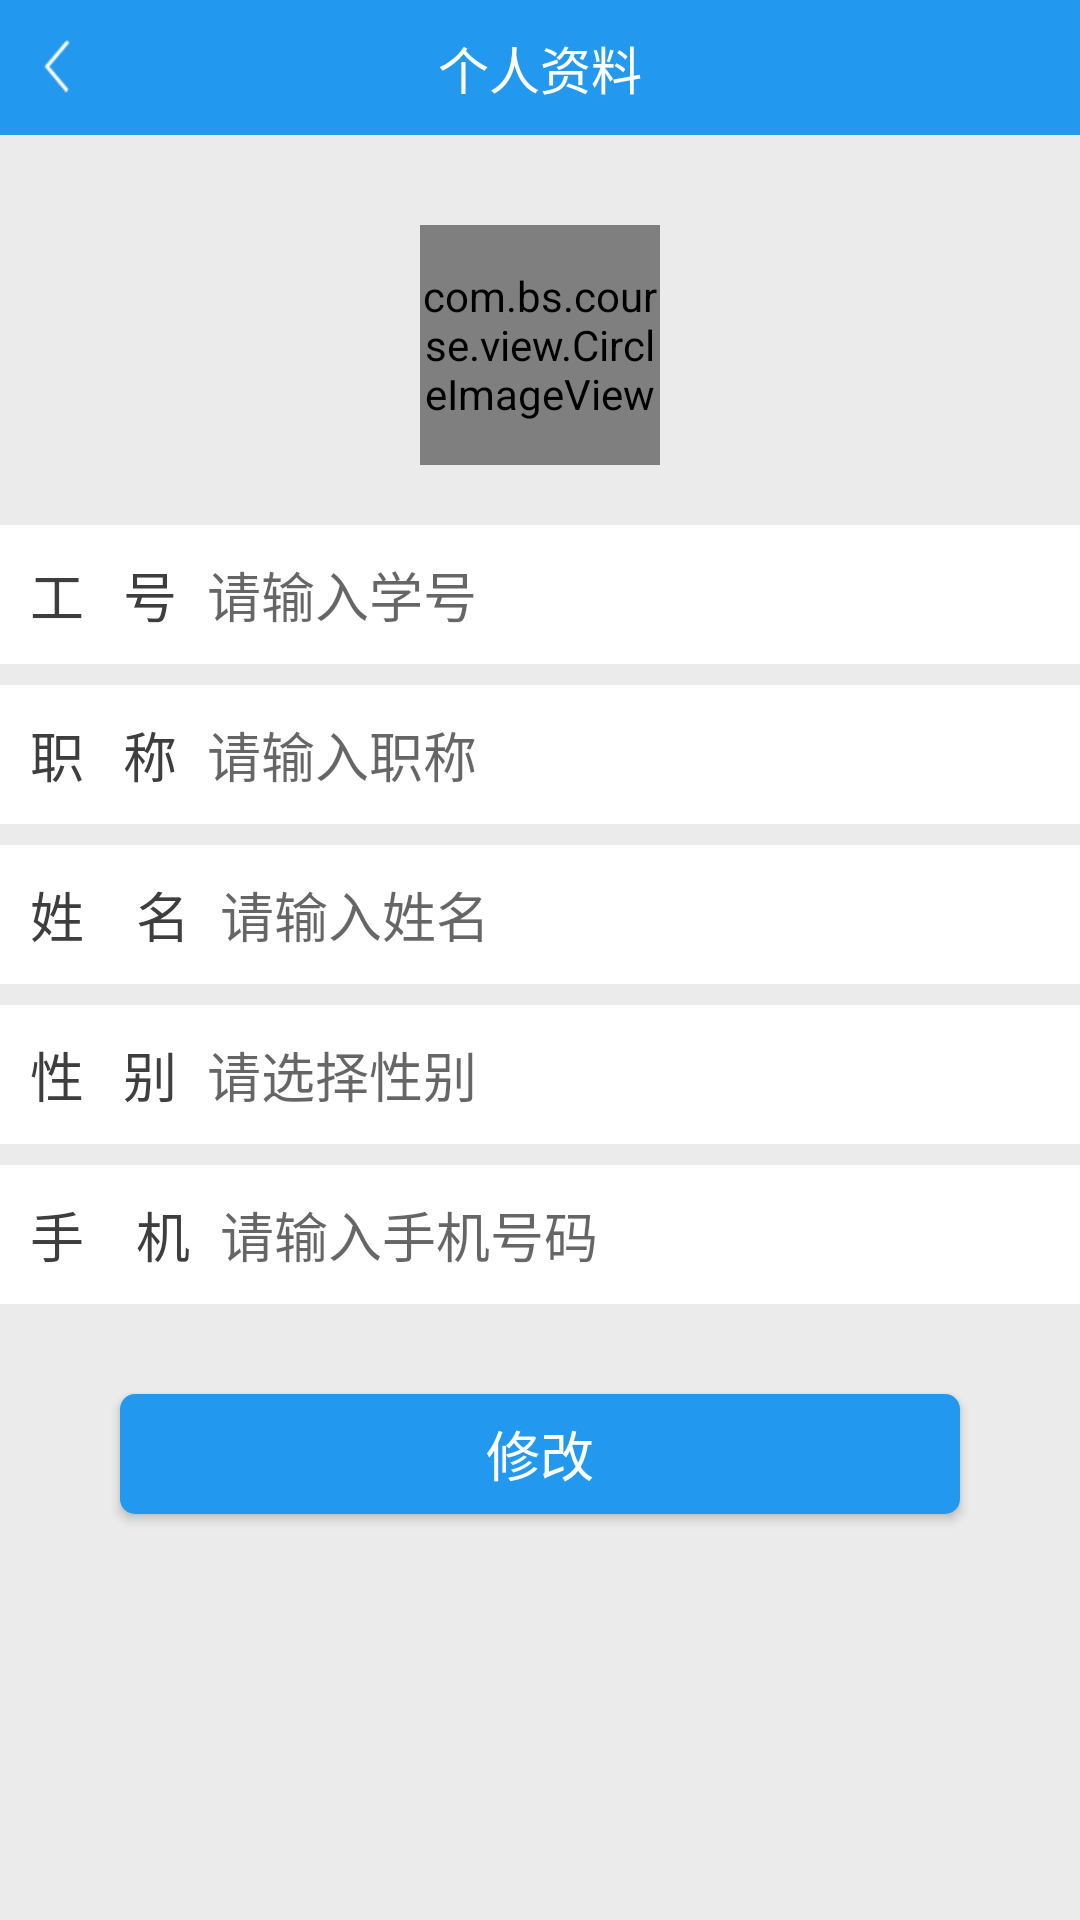

Named icons in this screenshot (1080px x 1920px) and their centers, [x,y]:
im back: [57,66]
